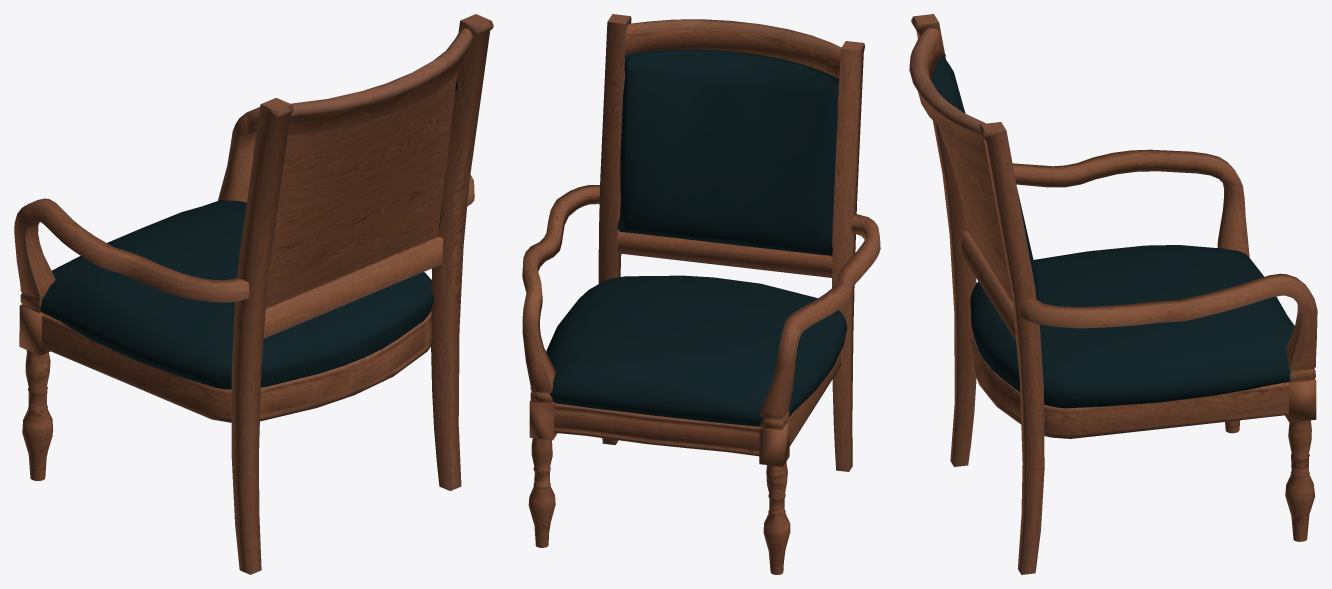
The model's file is Chair_2.glb.
3 renders of one model, left to right at view 1: azimuth 30°, elevation 25°; view 2: azimuth 150°, elevation 25°; view 3: azimuth 270°, elevation 25°, orthographic. The views are drawn at different scales.
Parts seen in each view (by area): view 1: Chair_2; view 2: Chair_2; view 3: Chair_2.
Part boxes in pixels (x1,y1,x2,y2): Chair_2: (14,14,493,574); Chair_2: (522,14,880,574); Chair_2: (909,14,1317,574).
Bounding box in the file's own units: 0.8305 × 1.05 × 0.8682.
1 material, 1 textured.
